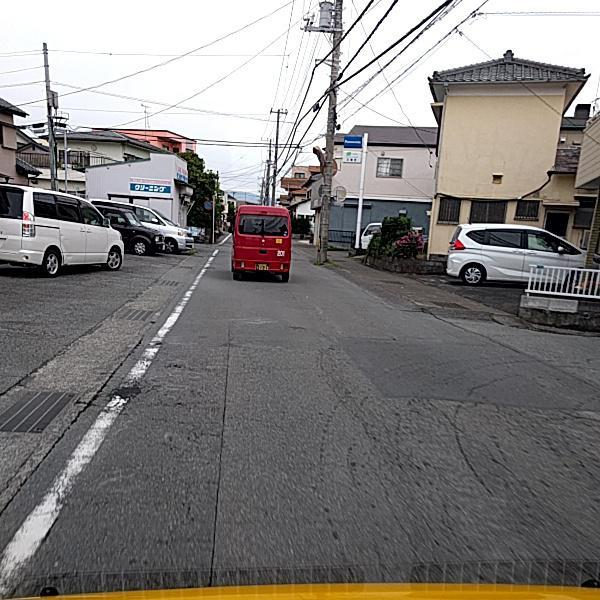D44: (0, 321, 167, 581)
